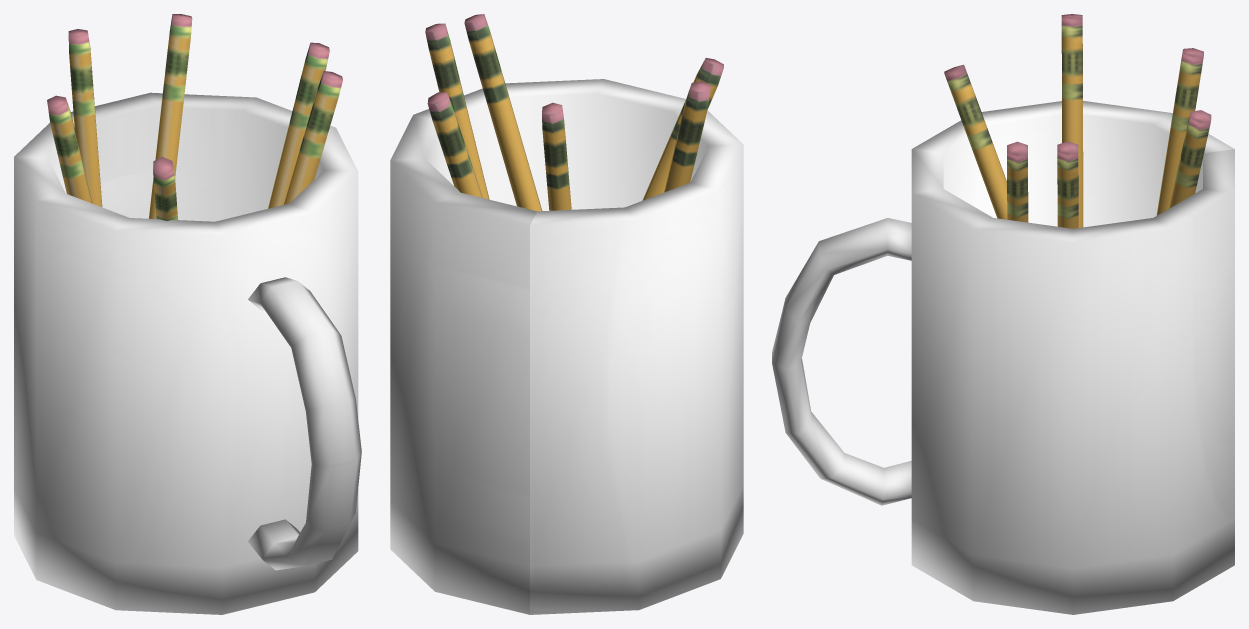
Rendered from Pencil Jar.fbx.
3 renders of one model, left to right at view 1: azimuth 30°, elevation 25°; view 2: azimuth 150°, elevation 25°; view 3: azimuth 270°, elevation 25°, orthographic. The views are drawn at different scales.
Visible parts, largest first — view 1: mug, mug_handle, pencil3, pencil4, pencil2, pencil1, pencil5, pencil6; view 2: mug, pencil1, pencil2, pencil3, pencil5, pencil4, pencil6; view 3: mug, mug_handle, pencil6, pencil5, pencil4, pencil3, pencil2, pencil1.
Part boxes in pixels (bbox=[...]): mug: bbox=[14, 92, 358, 614]; mug_handle: bbox=[248, 277, 361, 570]; pencil3: bbox=[149, 14, 192, 218]; pencil4: bbox=[68, 29, 102, 207]; pencil2: bbox=[268, 42, 329, 208]; pencil1: bbox=[283, 71, 342, 204]; pencil5: bbox=[47, 95, 92, 203]; pencil6: bbox=[153, 156, 177, 220]; mug: bbox=[390, 79, 743, 614]; pencil1: bbox=[464, 14, 542, 211]; pencil2: bbox=[425, 23, 489, 199]; pencil3: bbox=[427, 92, 482, 197]; pencil5: bbox=[664, 81, 710, 192]; pencil4: bbox=[542, 102, 571, 210]; pencil6: bbox=[642, 58, 723, 200]; mug: bbox=[911, 101, 1234, 614]; mug_handle: bbox=[772, 218, 911, 505]; pencil6: bbox=[944, 64, 1007, 219]; pencil5: bbox=[1061, 14, 1083, 227]; pencil4: bbox=[1156, 48, 1203, 215]; pencil3: bbox=[1169, 110, 1211, 208]; pencil2: bbox=[1057, 141, 1078, 228]; pencil1: bbox=[1007, 141, 1028, 222].
Size of the model in its own units: 1.4 by 2.14 by 1.91.
